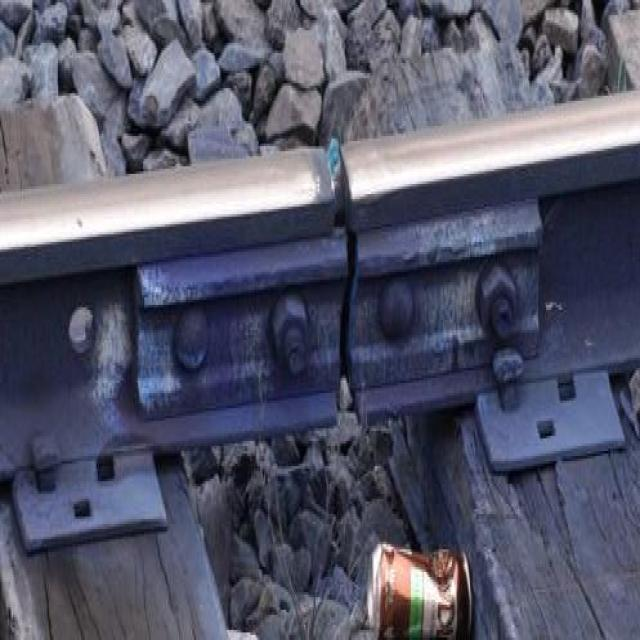Defective Joint: (131, 200, 544, 409)
Good Fasteners: (492, 348, 524, 403), (31, 436, 58, 486)
Missing Dogscrew: (98, 456, 113, 479), (559, 375, 574, 398), (75, 499, 90, 517), (538, 421, 554, 436)
